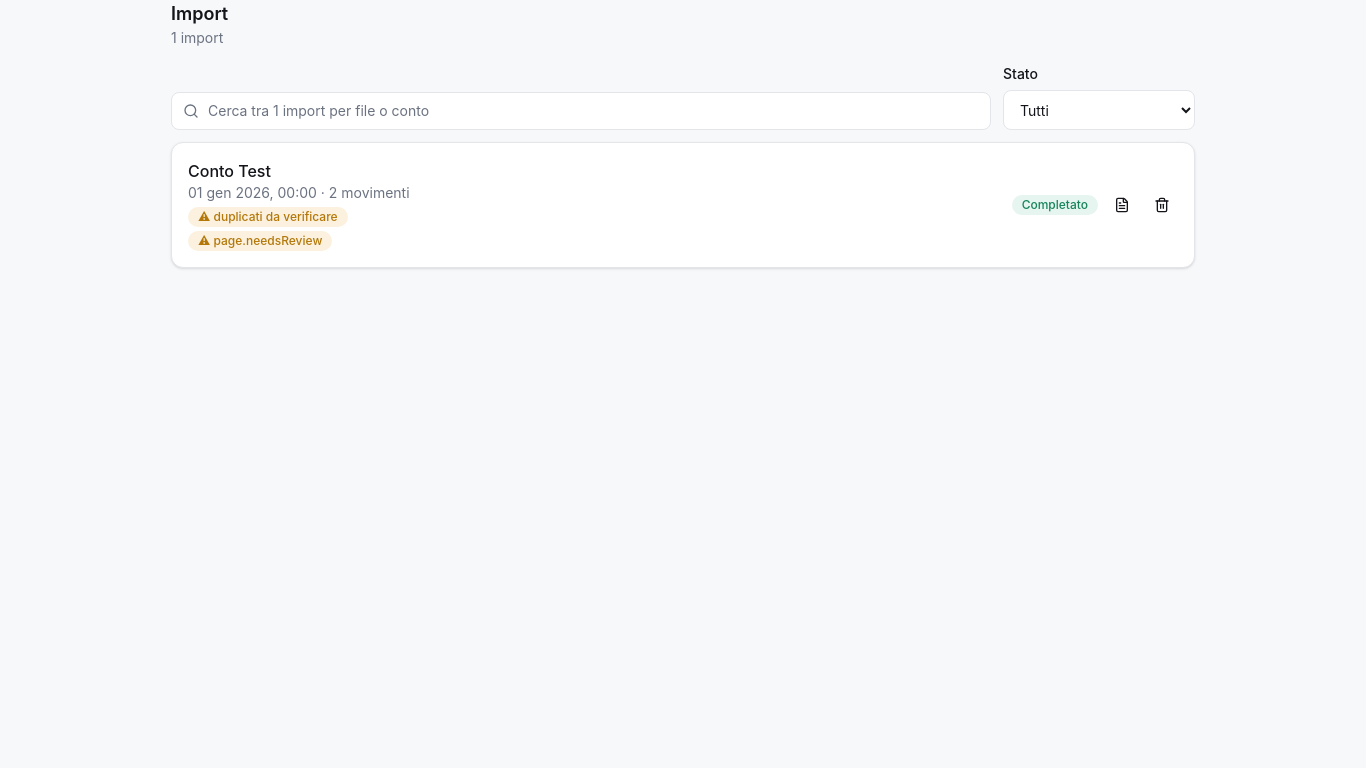
it: ImportsPage — elimina import › pluralizza correttamente con una sola transazione
Click the button named "Elimina import".
click(1162, 205)  # box [1146,189,1178,221]
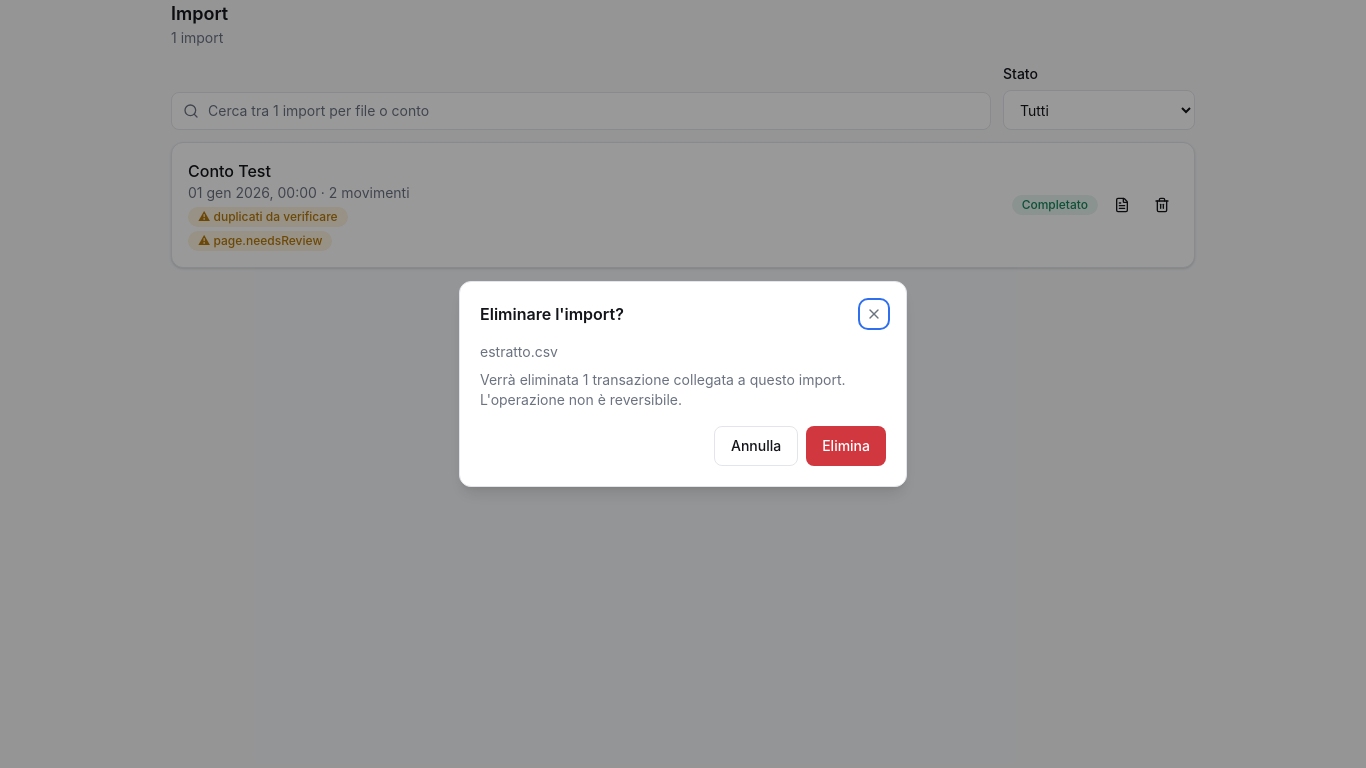
Expected: the text "Verrà eliminata 1 transazione" is shown, [480,371,846,388]
